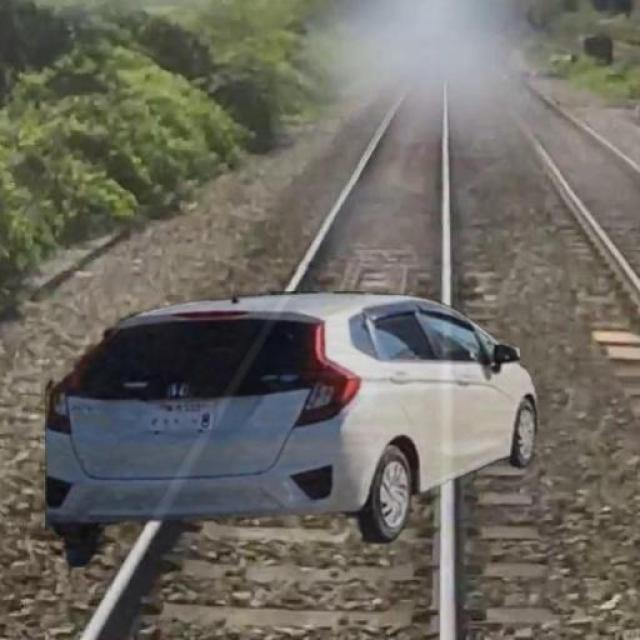vehicle: (34, 285, 554, 566)
